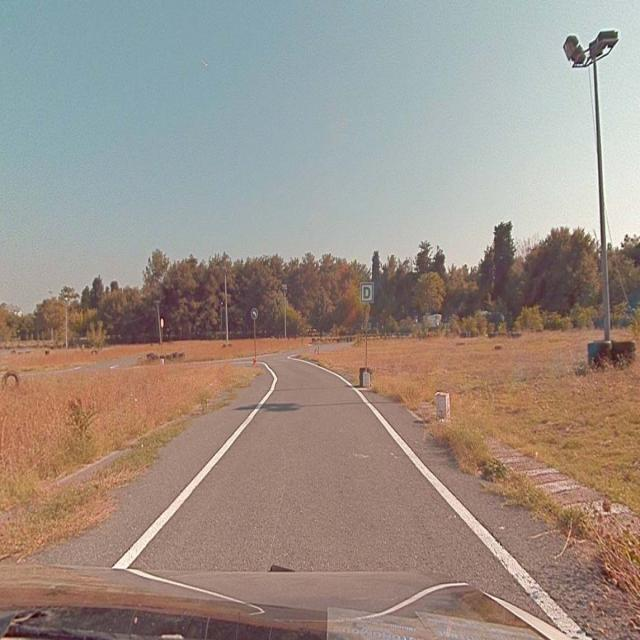durak: (360, 282, 373, 304)
sol: (251, 308, 257, 318)
